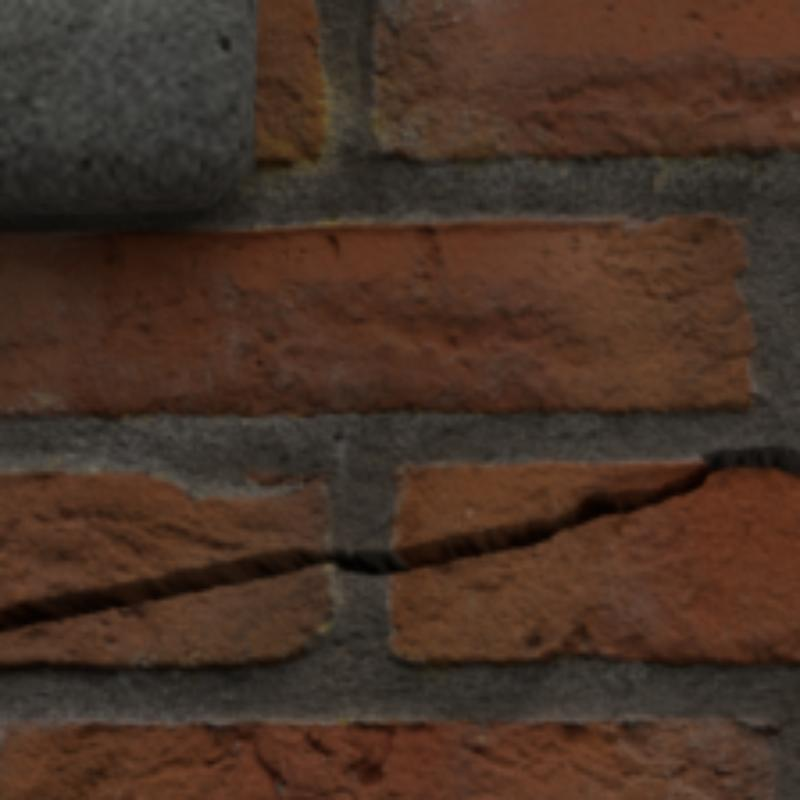crack: (0, 454, 796, 629)
